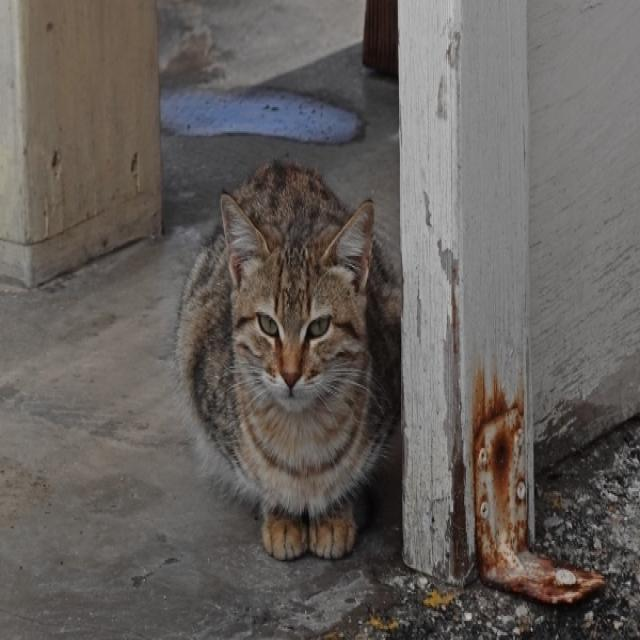cat: (178, 163, 401, 559)
